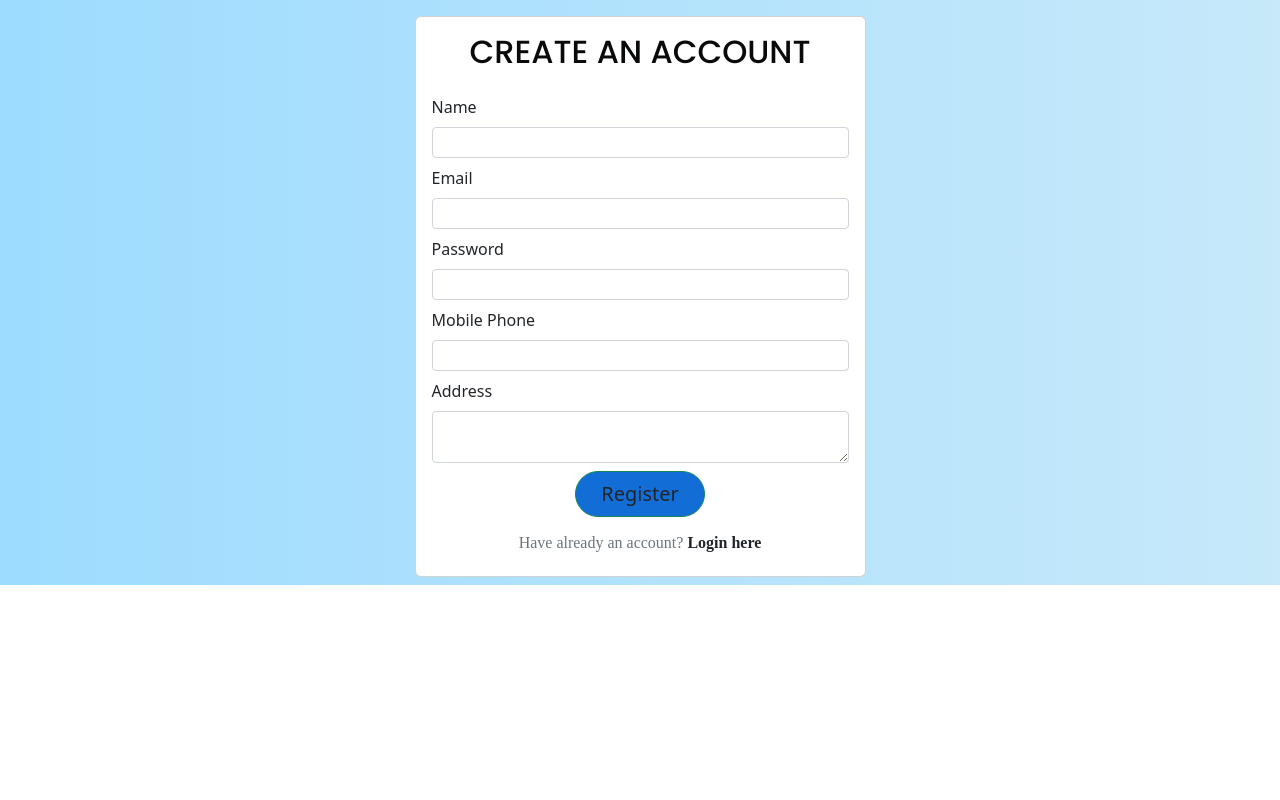
Test: shows required-field errors and does not call the API when the form is empty
Click the button "Register" at (640,494), box [575,471,705,517]
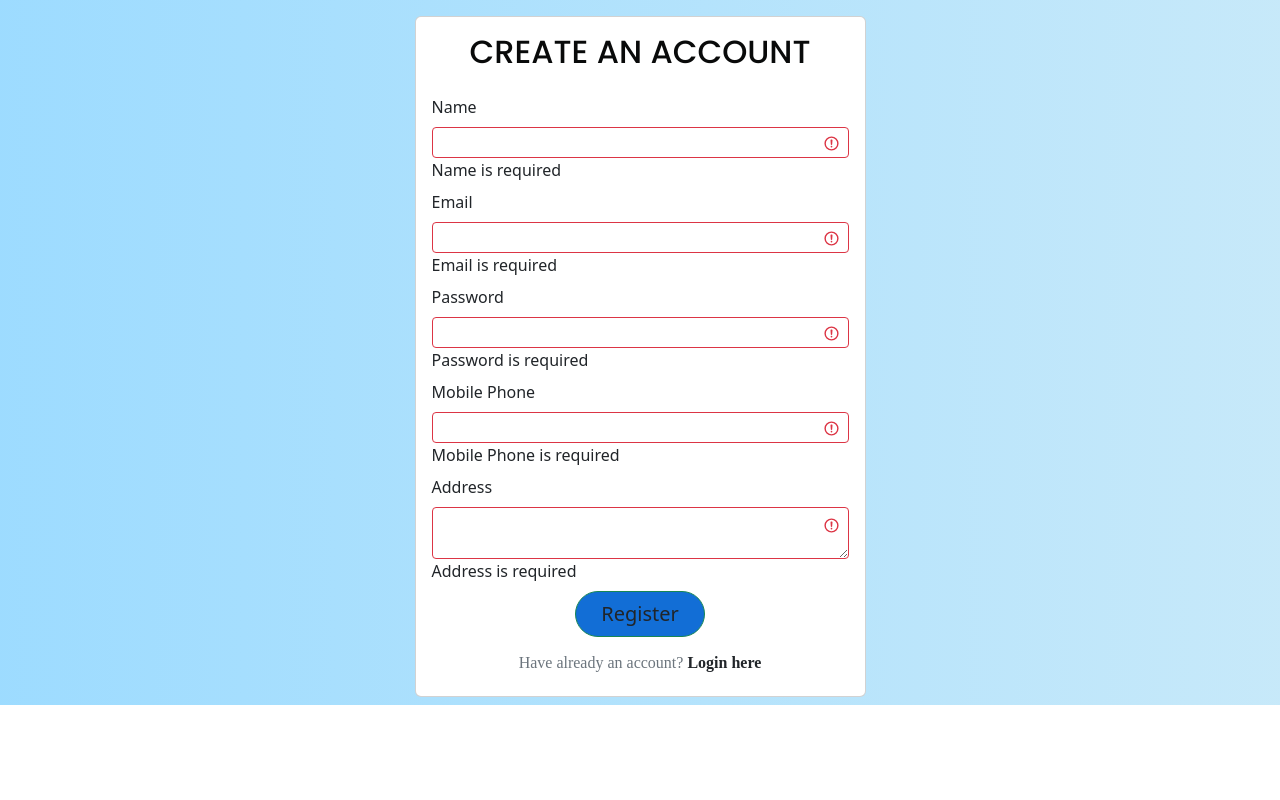
Expected: the text "Name is required" is shown, [432,159,561,181]
Expected: the text "Email is required" is shown, [432,254,557,276]
Expected: the text "Password is required" is shown, [432,349,588,371]
